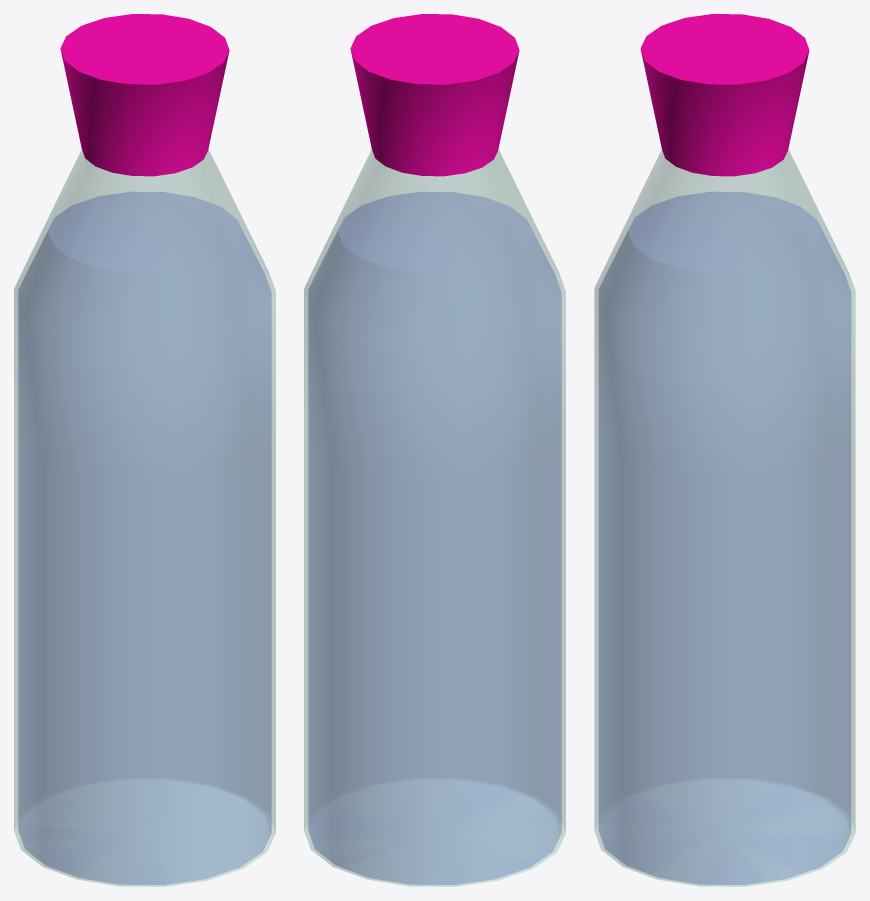
File: Anethesia Cart - Bottle Pink S.FBX
3 views of the same model, side by side, from view 1: azimuth 30°, elevation 25°; view 2: azimuth 150°, elevation 25°; view 3: azimuth 270°, elevation 25° (orthographic).
Parts seen in each view (by area): view 1: BottleBlue033; view 2: BottleBlue033; view 3: BottleBlue033.
Part boxes in pixels (box(x1,y1,x2,y2)): BottleBlue033: box(14, 14, 275, 886); BottleBlue033: box(304, 14, 565, 886); BottleBlue033: box(594, 14, 855, 886).
Size of the model in its own units: 1.89 by 6.29 by 1.9.
